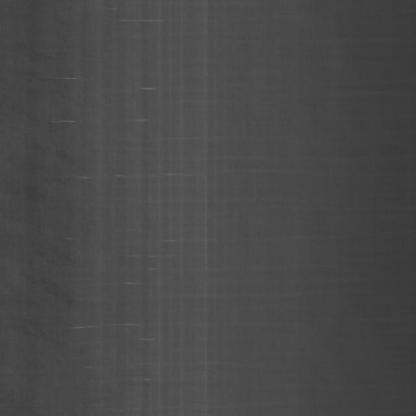waist_folding: (49, 22, 238, 404)
